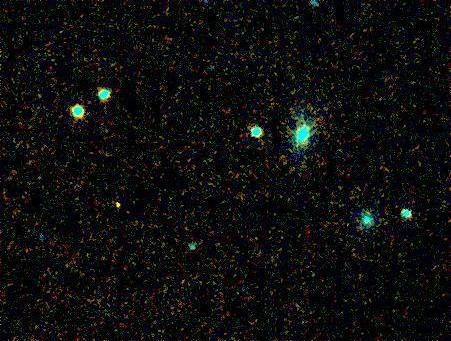star: (104, 189, 134, 219)
